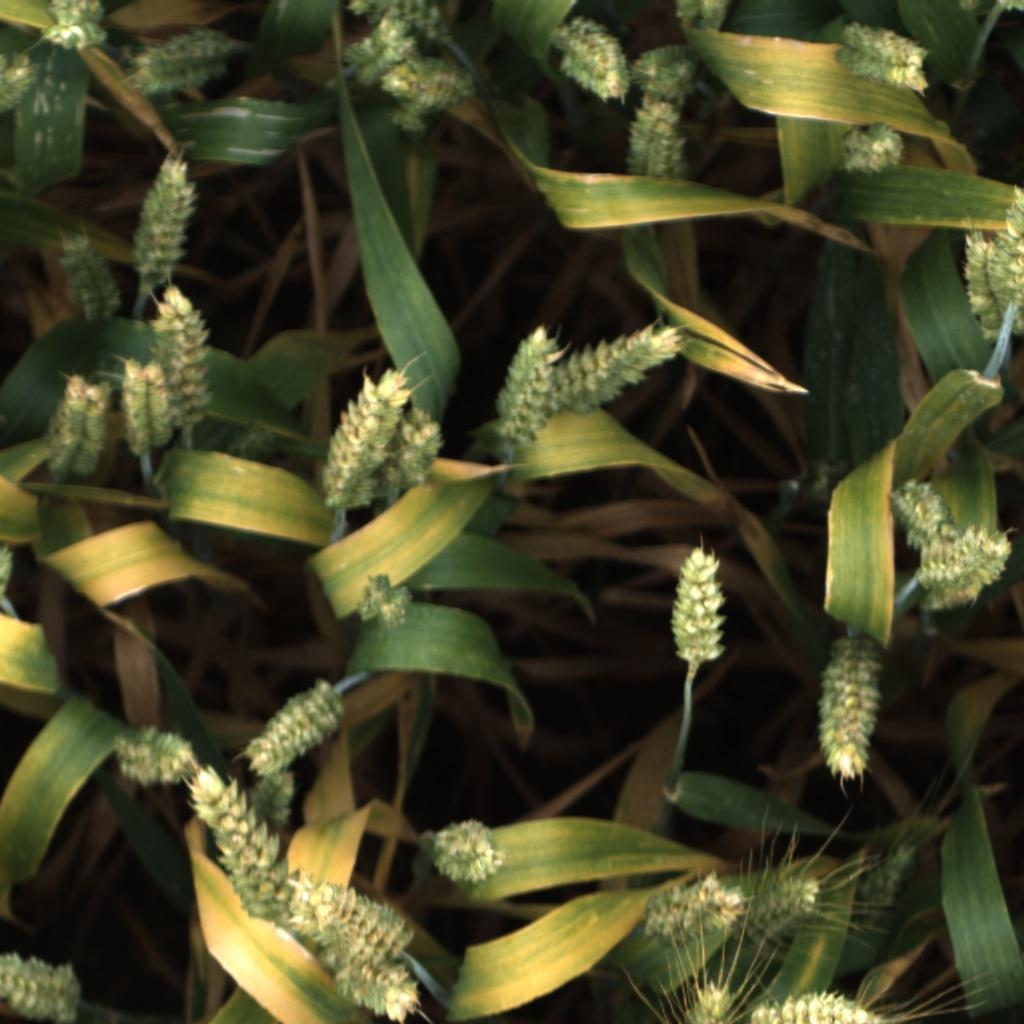0-0: (177, 763, 322, 942), (304, 360, 412, 509), (284, 878, 420, 976), (565, 311, 687, 418), (241, 679, 355, 780), (812, 645, 884, 789), (491, 318, 568, 451), (145, 283, 216, 421), (129, 148, 197, 287), (912, 524, 1013, 614), (53, 220, 127, 333), (122, 34, 244, 102), (666, 544, 730, 673), (38, 371, 112, 481), (957, 227, 1024, 345), (832, 23, 936, 99), (730, 873, 820, 956), (102, 719, 203, 792), (848, 833, 912, 947), (379, 405, 447, 506), (324, 955, 422, 1023), (553, 12, 627, 102), (621, 35, 709, 110), (113, 347, 171, 459), (0, 951, 85, 1024), (343, 16, 428, 89), (622, 94, 692, 180), (426, 816, 509, 887), (876, 473, 952, 545), (343, 0, 452, 48), (381, 55, 478, 108), (673, 869, 745, 938), (783, 978, 888, 1024), (238, 763, 299, 835), (634, 879, 696, 945), (354, 569, 417, 633), (837, 120, 904, 180), (39, 0, 110, 52), (996, 183, 1024, 310), (677, 974, 740, 1024), (0, 47, 39, 127), (225, 416, 277, 460), (673, 1, 731, 32), (389, 102, 430, 135), (0, 541, 17, 600), (748, 1002, 782, 1024), (996, 0, 1024, 15)
